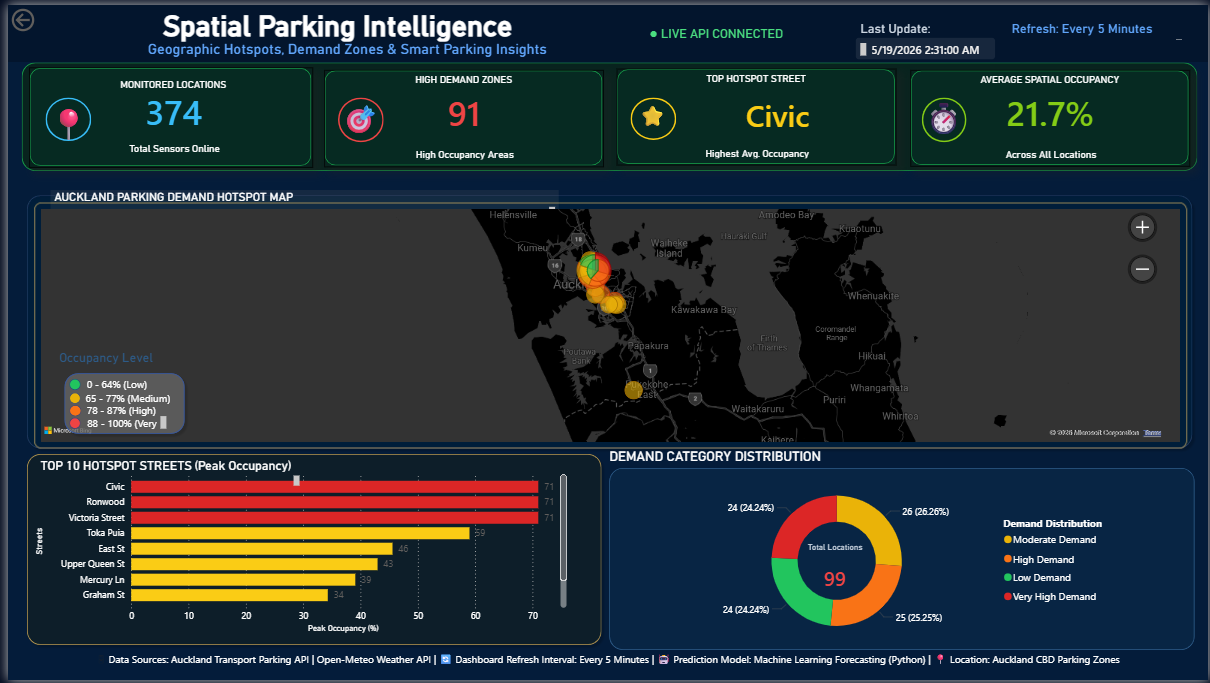

The dashboard page shown, as its layout file describes it:
{"tool":"powerbi","page":{"name":"Page 3 - Spatial & AI Insights","canvas":[1600,900],"ordinal":2},"visuals":[{"type":"shape","box":[17.9,77.5,1567.5,144.5],"z":0},{"type":"group","id":"g1","title":"Group 3","box":[81.6,492.3,134.1,29.4],"z":0,"group":"g10"},{"type":"shape","box":[0,0,1600.3,76],"z":1000},{"type":"group","id":"g2","title":"Group 4","box":[81.4,510.1,150.4,29.4],"z":1000,"group":"g10"},{"type":"group","id":"g3","title":"Group 5","box":[81.4,544.2,134.1,29.4],"z":2000,"group":"g10"},{"type":"textbox","box":[2.2,859,1597.8,41.5],"z":2000},{"type":"textbox","title":"● LIVE API CONNECTED","box":[850.1,26.3,299.7,49.1],"z":3000},{"type":"group","id":"g4","title":"Group 6","box":[81.4,527.8,142.4,29.4],"z":3000,"group":"g10"},{"type":"cardVisual","fields":{"Data":["Min(parking_powerbi_dashboard.last_updated)"]},"box":[1113.1,26.3,220.9,63.1],"z":4000},{"type":"textbox","title":"Spatial Parking Intelligence","box":[1.9,5.6,876,48.8],"z":5000},{"type":"textbox","title":"Geographic Hotspots, Demand Zones & Smart Parking Insights","box":[38.7,47.7,828.5,28.3],"z":6000},{"type":"textbox","title":"Last Update:","box":[1132.3,21,164.8,26.3],"z":7000},{"type":"textbox","title":"Refresh: Every 5 Minutes","box":[1333.9,21,236.6,29.8],"z":8000},{"type":"actionButton","box":[0,0,100,40],"z":9000},{"type":"shape","box":[17.9,245.9,1567.5,351.6],"z":10000},{"type":"shape","title":"DEMAND CATEGORY DISTRIBUTION","box":[801.8,592,780.4,268.4],"z":11000},{"type":"shape","box":[17.8,592,780,268.4],"z":12000},{"type":"group","id":"g5","title":"Group 10","box":[421.7,81.5,372.5,133],"z":13000},{"type":"clusteredBarChart","fields":{"Category":["parking_hotspots.street"],"Y":["Max(parking_hotspots.PredictedOcc)"]},"box":[32,613.3,718.2,229.3],"z":14000},{"type":"textbox","title":"TOP 10 HOTSPOT STREETS (Peak Occupancy)","box":[39.1,602.7,355.6,42.7],"z":15000},{"type":"group","id":"g6","title":"Group 10","box":[28.3,83,379.6,133.3],"z":16000},{"type":"group","id":"g7","title":"Group 10","box":[812.4,82.4,374,132.2],"z":17000},{"type":"group","id":"g8","title":"Group 10","box":[1202.8,81.8,373.8,133],"z":18000},{"type":"shape","box":[50.7,123.7,61.1,58.1],"z":19000},{"type":"shape","box":[1218.8,123.7,59.6,59.6],"z":20000},{"type":"shape","box":[829.9,123.7,61.1,56.6],"z":21000},{"type":"shape","box":[439.6,123.7,61.1,59.6],"z":22000},{"type":"textbox","title":"AUCKLAND PARKING DEMAND HOTSPOT MAP","box":[56.6,245.9,678,31.3],"z":23000},{"type":"donutChart","fields":{"Category":["parking_hotspots.Demand Distribution"],"Y":["CountNonNull(parking_hotspots.street)"]},"box":[877.6,623.9,598.5,235.8],"z":24000},{"type":"cardVisual","title":"Total Locations","fields":{"Data":["parking_hotspots.Total Locations"]},"box":[1049.3,716.4,106,79.1],"z":25000},{"type":"map","fields":{"Series":["parking_hotspots_forecast.Demand Level"],"Y":["parking_hotspots_forecast.lat"],"X":["parking_hotspots_forecast.lon"],"Size":["Avg(parking_hotspots_forecast.PredictedOcc)"]},"box":[34.3,264.2,1536.9,327.6],"z":26000},{"type":"group","id":"g9","title":"Group 8","box":[68.5,460.4,172.8,117.7],"z":27000},{"type":"shape","box":[28.3,83,378.1,133.3],"z":28000,"group":"g6"},{"type":"shape","box":[812.7,85.6,373,129],"z":28000,"group":"g7"},{"type":"shape","box":[422,86.5,373,129.4],"z":28000,"group":"g5"},{"type":"shape","box":[1203.1,86.8,373,129],"z":28000,"group":"g8"},{"type":"textbox","box":[816.4,107.3,85.5,127.3],"z":28000},{"type":"textbox","box":[440,103.4,61.3,113.9],"z":29000},{"type":"textbox","box":[47.3,123.6,65.5,90.9],"z":30000},{"type":"cardVisual","title":"Current Occupancy","fields":{"Data":["parking_powerbi_dashboard.High Demand Zones"]},"box":[421.7,81.5,373,120.6],"z":31000,"group":"g5"},{"type":"cardVisual","title":"Current Occupancy","fields":{"Data":["parking_powerbi_dashboard.Average Spatial Occupancy (%)"]},"box":[1202.8,81.8,373,120.2],"z":31000,"group":"g8"},{"type":"cardVisual","title":"Current Occupancy","fields":{"Data":["parking_hotspots.Top Hotspot Street Final"]},"box":[867,82.4,319.4,126.9],"z":31000,"group":"g7"},{"type":"cardVisual","title":"Current Occupancy","fields":{"Data":["parking_powerbi_dashboard.Monitored Locations"]},"box":[34.9,88.7,372.2,102.7],"z":31000,"group":"g6"},{"type":"textbox","box":[1212.7,114.5,65.5,80],"z":31000},{"type":"shape","title":"Occupancy Level","box":[68.5,460.4,174.1,118.8],"z":33000,"group":"g9"},{"type":"textbox","title":"Total Sensors Online","box":[37,182.7,370.8,15.3],"z":34000,"group":"g6"},{"type":"textbox","title":"Highest Avg. Occupancy","box":[814.6,190.6,371.6,17.9],"z":34000,"group":"g7"},{"type":"textbox","title":"High Occupancy Areas","box":[423.9,191.8,371.6,18],"z":34000,"group":"g5"},{"type":"textbox","title":"Across All Locations","box":[1205,191.8,371.6,17.9],"z":34000,"group":"g8"},{"type":"shape","box":[81.6,498.2,15.3,15.3],"z":34000,"group":"g1"},{"type":"shape","box":[81.4,516,15.3,15.3],"z":34000,"group":"g2"},{"type":"shape","box":[81.4,533.7,16.2,15.3],"z":35000,"group":"g4"},{"type":"shape","box":[81.4,550.1,15.3,15.3],"z":36000,"group":"g3"},{"type":"textbox","title":"TOP HOTSPOT STREET","box":[812.4,90.8,371.6,23],"z":38000,"group":"g7"},{"type":"textbox","title":"HIGH DEMAND ZONES","box":[421.7,91.8,371.6,23.1],"z":38000,"group":"g5"},{"type":"textbox","title":"AVERAGE SPATIAL OCCUPANCY","box":[1202.8,92,371.6,23],"z":38000,"group":"g8"},{"type":"textbox","title":"MONITORED LOCATIONS","box":[34.9,97.5,370.8,19.7],"z":38000,"group":"g6"},{"type":"textbox","box":[99.2,492.3,116.5,29.4],"z":38000,"group":"g1"},{"type":"textbox","box":[98.9,510.1,132.9,29.4],"z":38000,"group":"g2"},{"type":"textbox","box":[100.1,527.8,123.6,29.4],"z":39000,"group":"g4"},{"type":"textbox","box":[99,544.2,116.5,29.4],"z":40000,"group":"g3"},{"type":"group","id":"g10","title":"Group 7","box":[81.4,492.3,150.6,81.2],"z":40004,"group":"g9"}]}

Visuals, with their boxes in screenshot pixels (x1, y1, x2, y2), scaled from the page's 1600x900 canvas onto the 1210x683 screenshot:
shape: <bbox>14, 59, 1199, 168</bbox>
"Group 3" group: <bbox>62, 374, 163, 396</bbox>
shape: <bbox>0, 0, 1209, 58</bbox>
"Group 4" group: <bbox>62, 387, 175, 409</bbox>
"Group 5" group: <bbox>62, 413, 163, 435</bbox>
textbox: <bbox>2, 652, 1209, 682</bbox>
"● LIVE API CONNECTED" textbox: <bbox>643, 20, 870, 57</bbox>
"Group 6" group: <bbox>62, 401, 169, 423</bbox>
cardVisual - Min(parking_powerbi_dashboard.last_updated): <bbox>842, 20, 1009, 68</bbox>
"Spatial Parking Intelligence" textbox: <bbox>1, 4, 664, 41</bbox>
"Geographic Hotspots, Demand Zones & Smart Parking Insights" textbox: <bbox>29, 36, 656, 58</bbox>
"Last Update:" textbox: <bbox>856, 16, 981, 36</bbox>
"Refresh: Every 5 Minutes" textbox: <bbox>1009, 16, 1188, 39</bbox>
actionButton: <bbox>0, 0, 76, 30</bbox>
shape: <bbox>14, 187, 1199, 453</bbox>
"DEMAND CATEGORY DISTRIBUTION" shape: <bbox>606, 449, 1197, 653</bbox>
shape: <bbox>13, 449, 603, 653</bbox>
"Group 10" group: <bbox>319, 62, 601, 163</bbox>
clusteredBarChart - parking_hotspots.street x Max(parking_hotspots.PredictedOcc): <bbox>24, 465, 567, 639</bbox>
"TOP 10 HOTSPOT STREETS (Peak Occupancy)" textbox: <bbox>30, 457, 298, 490</bbox>
"Group 10" group: <bbox>21, 63, 308, 164</bbox>
"Group 10" group: <bbox>614, 63, 897, 163</bbox>
"Group 10" group: <bbox>910, 62, 1192, 163</bbox>
shape: <bbox>38, 94, 85, 138</bbox>
shape: <bbox>922, 94, 967, 139</bbox>
shape: <bbox>628, 94, 674, 137</bbox>
shape: <bbox>332, 94, 379, 139</bbox>
"AUCKLAND PARKING DEMAND HOTSPOT MAP" textbox: <bbox>43, 187, 556, 210</bbox>
donutChart - parking_hotspots.Demand Distribution x CountNonNull(parking_hotspots.street): <bbox>664, 473, 1116, 652</bbox>
"Total Locations" cardVisual: <bbox>794, 544, 874, 604</bbox>
map - parking_hotspots_forecast.Demand Level x parking_hotspots_forecast.lat: <bbox>26, 200, 1188, 449</bbox>
"Group 8" group: <bbox>52, 349, 182, 439</bbox>
shape: <bbox>21, 63, 307, 164</bbox>
shape: <bbox>615, 65, 897, 163</bbox>
shape: <bbox>319, 66, 601, 164</bbox>
shape: <bbox>910, 66, 1192, 164</bbox>
textbox: <bbox>617, 81, 682, 178</bbox>
textbox: <bbox>333, 78, 379, 165</bbox>
textbox: <bbox>36, 94, 85, 163</bbox>
"Current Occupancy" cardVisual: <bbox>319, 62, 601, 153</bbox>
"Current Occupancy" cardVisual: <bbox>910, 62, 1192, 153</bbox>
"Current Occupancy" cardVisual: <bbox>656, 63, 897, 159</bbox>
"Current Occupancy" cardVisual: <bbox>26, 67, 308, 145</bbox>
textbox: <bbox>917, 87, 967, 148</bbox>
"Occupancy Level" shape: <bbox>52, 349, 183, 440</bbox>
"Total Sensors Online" textbox: <bbox>28, 139, 308, 150</bbox>
"Highest Avg. Occupancy" textbox: <bbox>616, 145, 897, 158</bbox>
"High Occupancy Areas" textbox: <bbox>321, 146, 602, 159</bbox>
"Across All Locations" textbox: <bbox>911, 146, 1192, 159</bbox>
shape: <bbox>62, 378, 73, 390</bbox>
shape: <bbox>62, 392, 73, 403</bbox>
shape: <bbox>62, 405, 74, 417</bbox>
shape: <bbox>62, 417, 73, 429</bbox>
"TOP HOTSPOT STREET" textbox: <bbox>614, 69, 895, 86</bbox>
"HIGH DEMAND ZONES" textbox: <bbox>319, 70, 600, 87</bbox>
"AVERAGE SPATIAL OCCUPANCY" textbox: <bbox>910, 70, 1191, 87</bbox>
"MONITORED LOCATIONS" textbox: <bbox>26, 74, 307, 89</bbox>
textbox: <bbox>75, 374, 163, 396</bbox>
textbox: <bbox>75, 387, 175, 409</bbox>
textbox: <bbox>76, 401, 169, 423</bbox>
textbox: <bbox>75, 413, 163, 435</bbox>
"Group 7" group: <bbox>62, 374, 175, 435</bbox>
